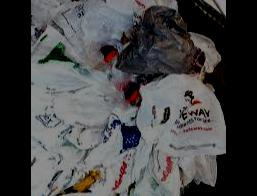Plastic: (130, 72, 226, 160), (116, 1, 208, 82)
